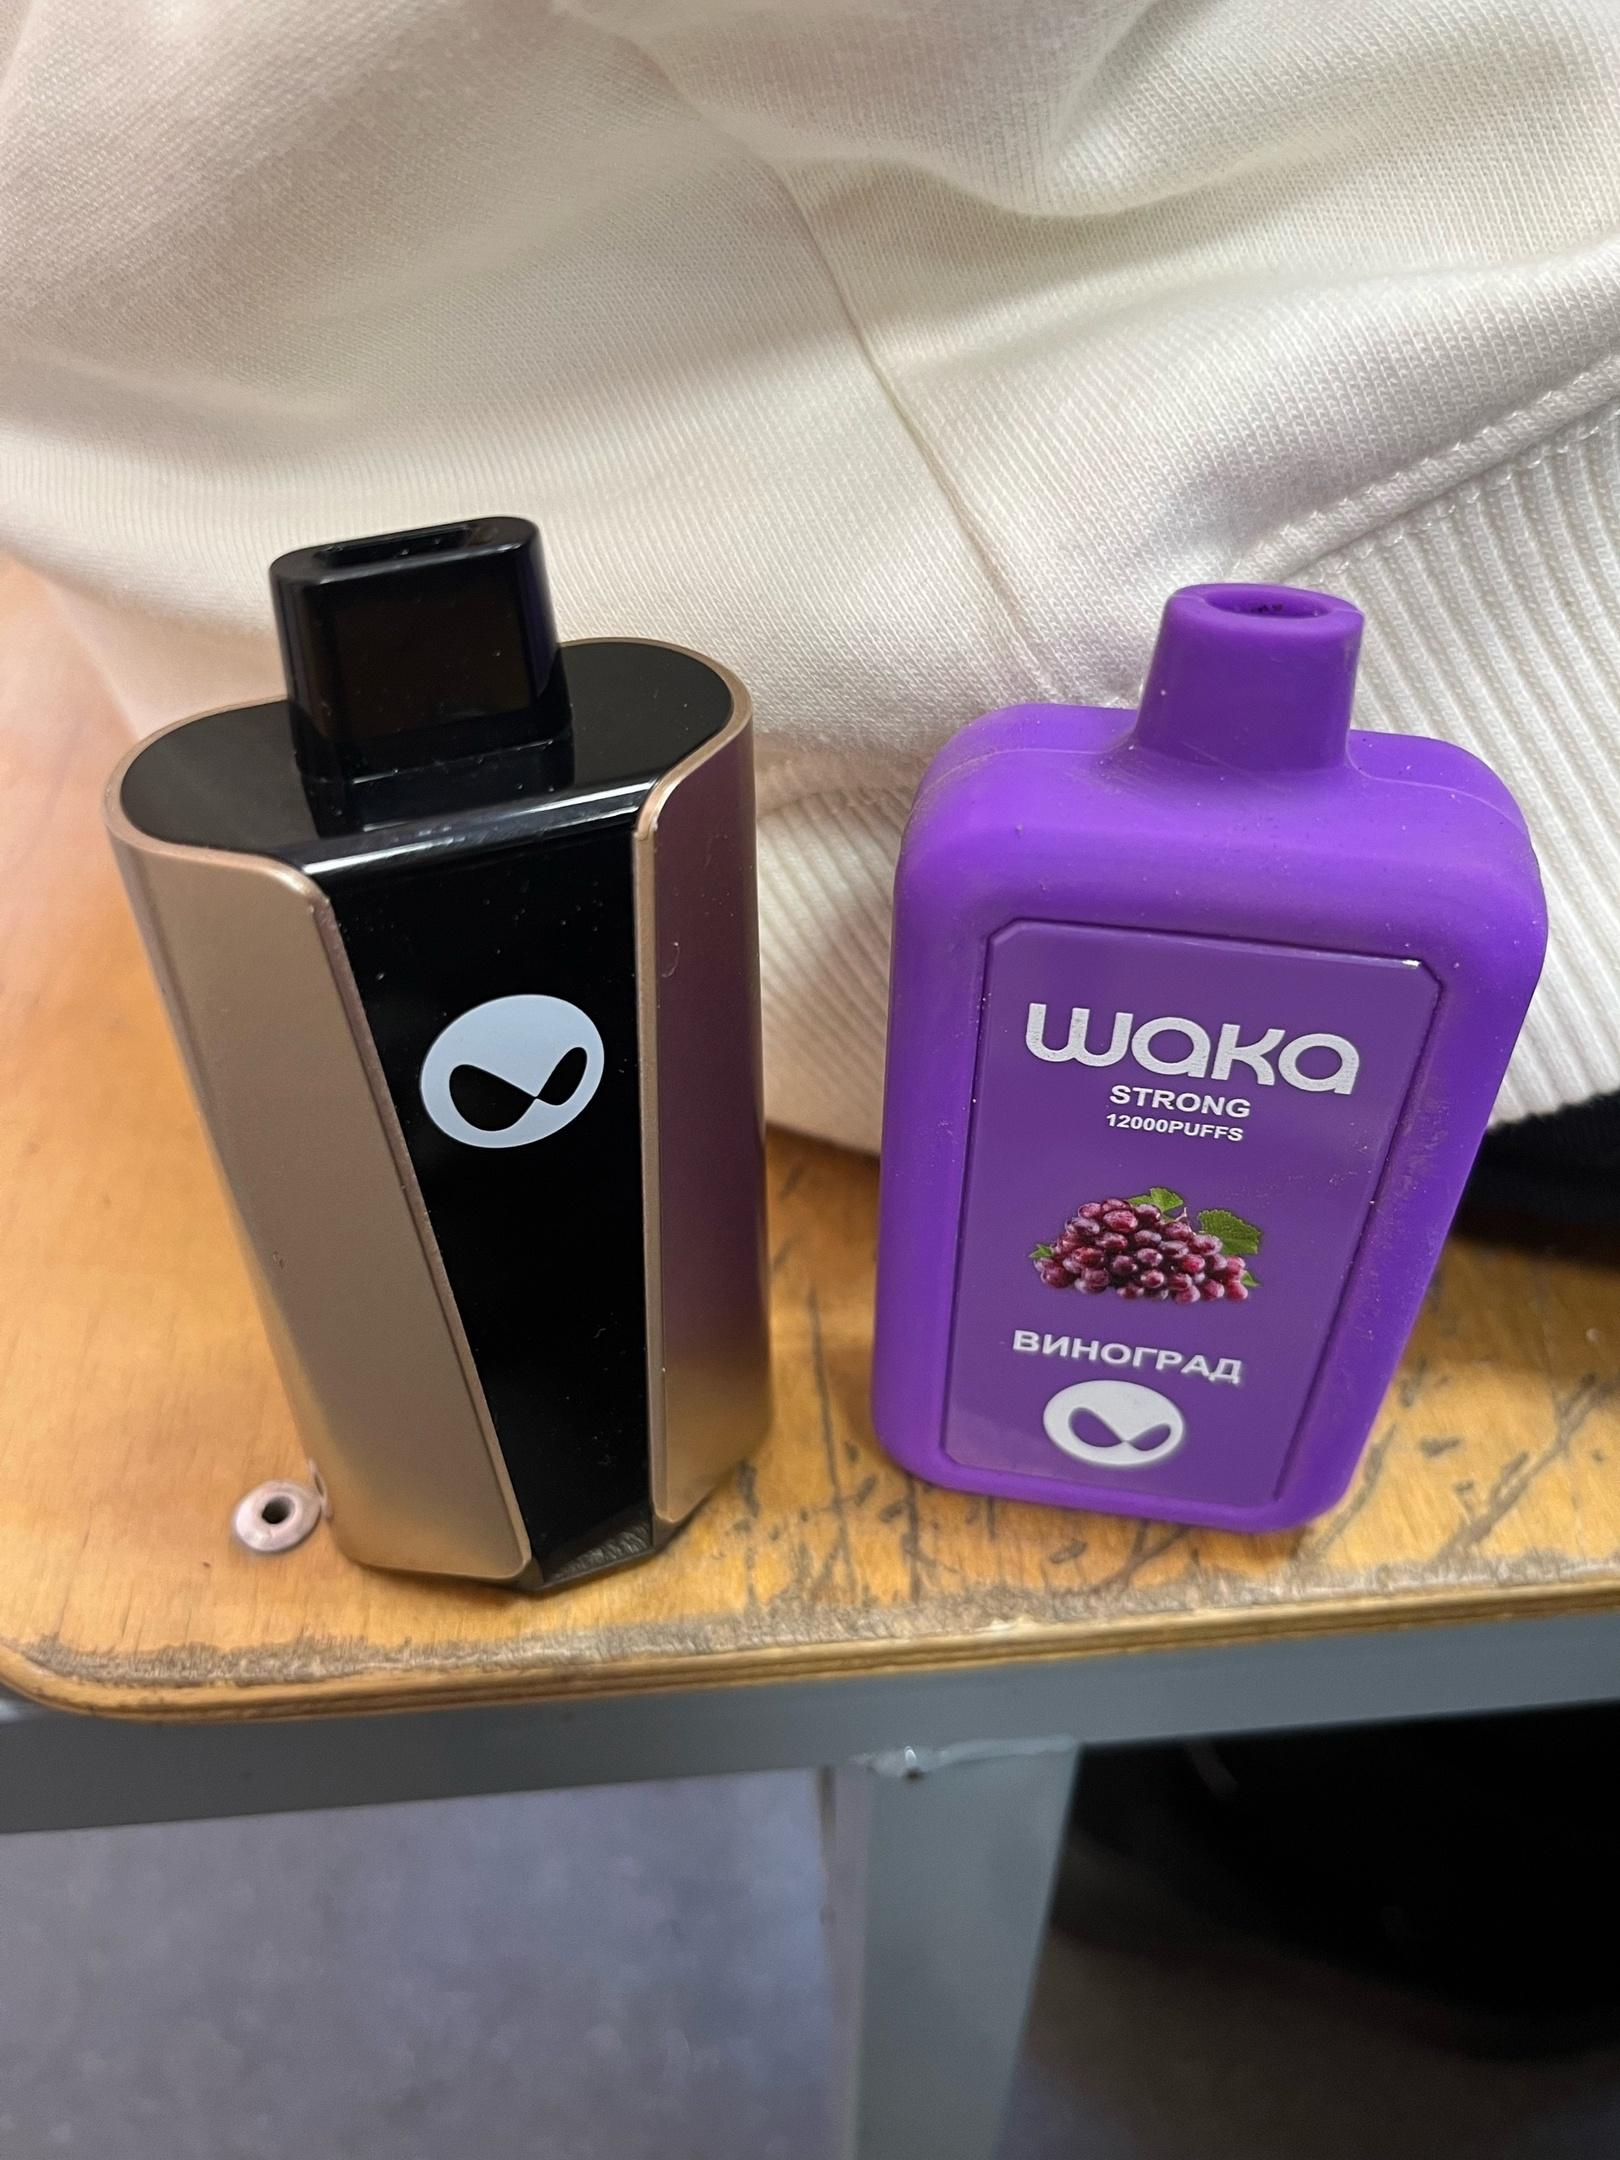Vape: (107, 517, 769, 1590), (875, 583, 1545, 1531)
